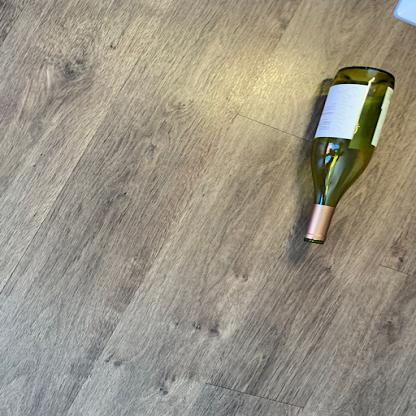trash: (300, 65, 396, 247)
